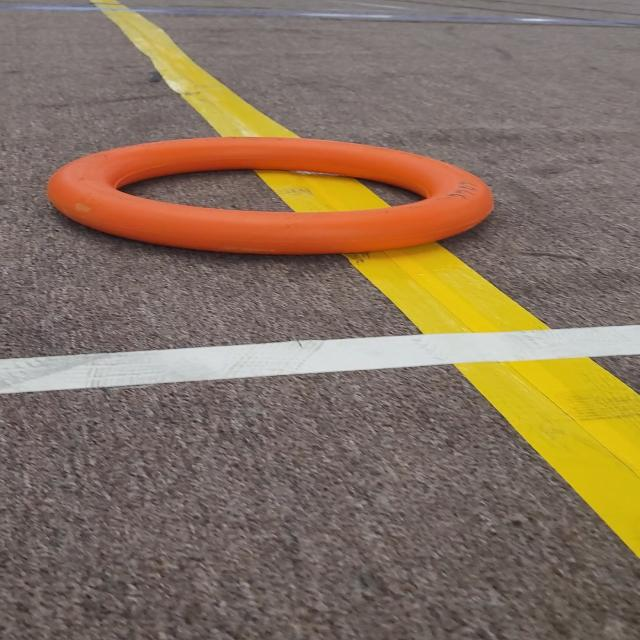note: (39, 127, 536, 266)
